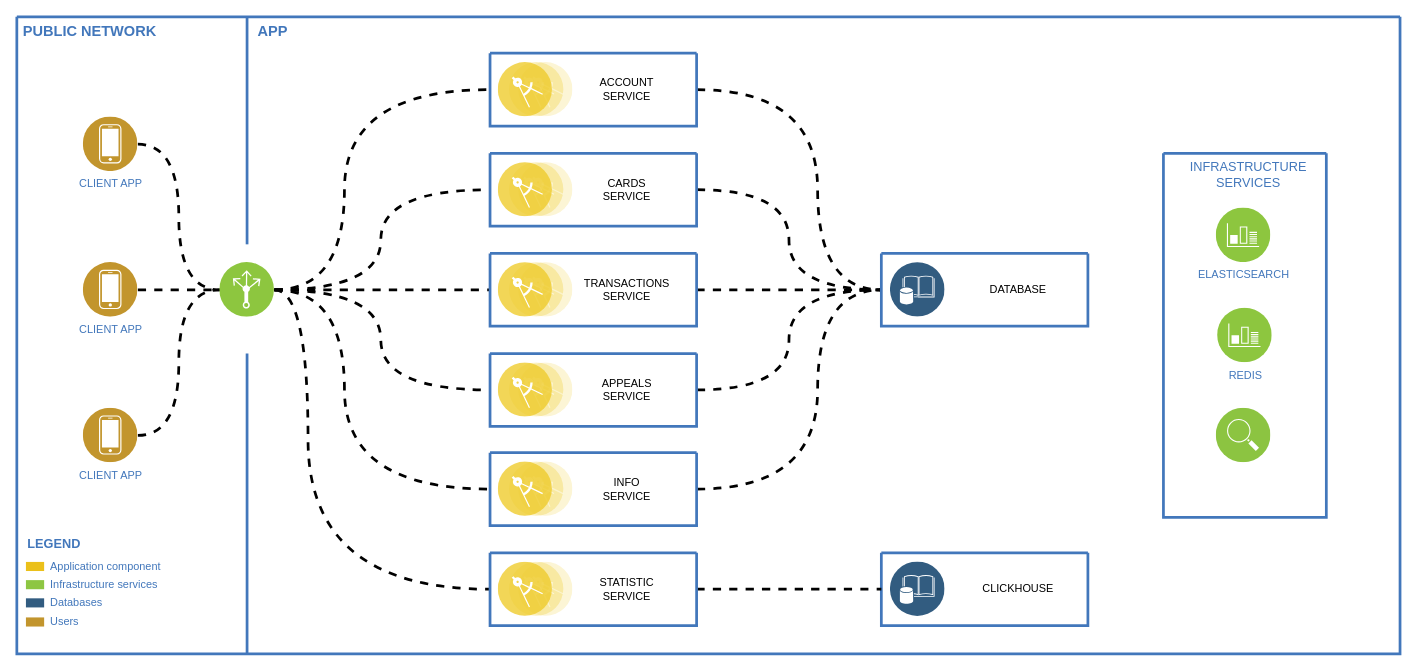
Some shapes in this 1417 by 671 pixel diagram are drawn without their labels. The box of each missing label's shape, as (x1, y1, x2, y2) in pixels:
API GATEWAY: (219, 262, 274, 317)
GRAFFANA: (1216, 408, 1270, 462)
